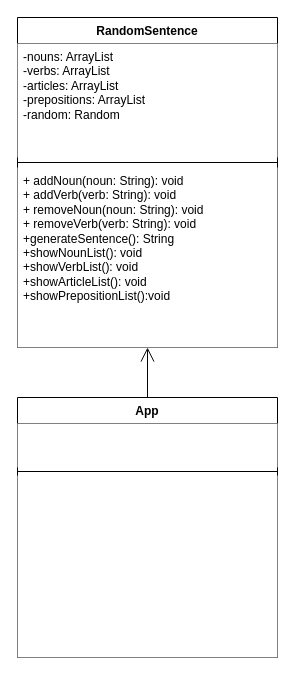
Image size: 295x678. Some labels were removed from this diagram. Here are the shapes that lost their labels. From the top down, the centre of each, then its label:
At point 147,445: "- generator: SentenceGenerator - input: Scanner".
At point 147,566: "+main(args: String[]): void -menu(): void -choice(int): void".
